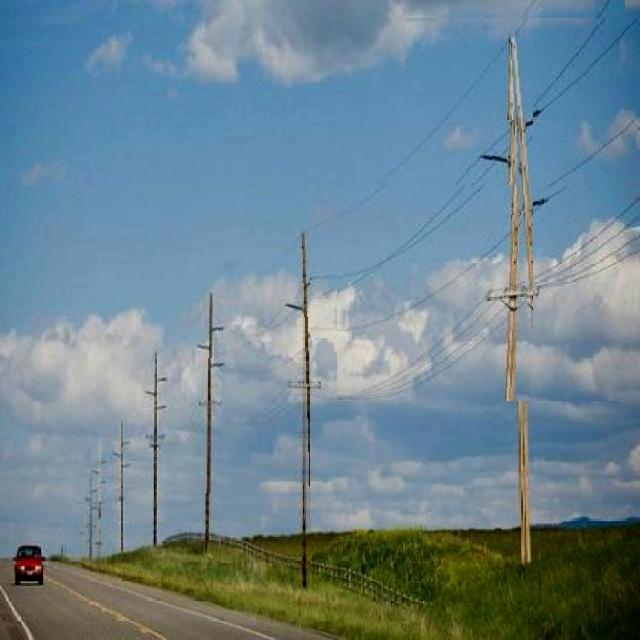pole: (511, 34, 533, 369), (298, 232, 310, 590), (205, 291, 218, 556)
wire: (323, 0, 617, 284), (309, 120, 639, 339), (337, 193, 639, 401), (405, 18, 639, 250), (320, 0, 548, 236)
